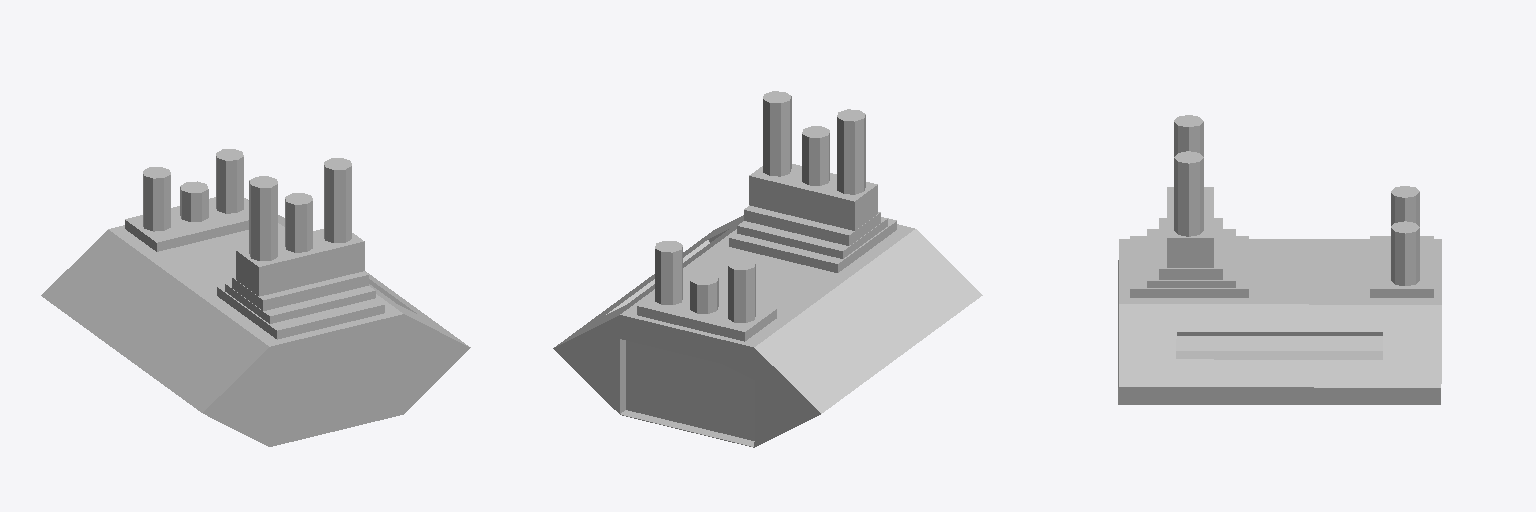
File: Stage 1 of Ship Hanger OBJ.obj
The picture shows the model from 3 angles: view 1: azimuth 30°, elevation 25°; view 2: azimuth 150°, elevation 25°; view 3: azimuth 270°, elevation 25°; orthographic projection.
Parts seen in each view (by area): view 1: pCylinder4, pasted__pasted__pasted__pCube4 pasted__pasted__group5 pasted__gr, pasted__pasted__pCylinder5 pasted__group8 group9, pasted__pCylinder5 group8, pasted__pCube4 group4, pCube4, pasted__pasted__pCube4 pasted__group5 group6, pasted__pCube4 group5, pasted__pCylinder5 group10, pCylinder5; view 2: pCylinder4, pasted__pasted__pasted__pCube4 pasted__pasted__group5 pasted__gr, pasted__pasted__pCylinder5 pasted__group8 group9, pasted__pCylinder5 group8, pasted__pCube4 group4, pCube4, pasted__pasted__pCube4 pasted__group5 group6, pasted__pCube4 group5, pasted__pCylinder5 group10, pCylinder5; view 3: pCylinder4, pasted__pasted__pCylinder5 pasted__group8 group9, pasted__pCylinder5 group8, pCube4, pasted__pCube4 group4, pasted__pasted__pasted__pCube4 pasted__pasted__group5 pasted__gr, pasted__pCube4 group5, pasted__pasted__pCube4 pasted__group5 group6.
Boxes of the visible parts, x1,y1,x2,y2 form: pCylinder4: [41, 198, 470, 446]; pasted__pasted__pasted__pCube4 pasted__pasted__group5 pasted__gr: [236, 229, 364, 296]; pasted__pasted__pCylinder5 pasted__group8 group9: [249, 158, 351, 260]; pasted__pCylinder5 group8: [143, 149, 243, 231]; pasted__pCube4 group4: [125, 197, 248, 251]; pCube4: [217, 285, 384, 339]; pasted__pasted__pCube4 pasted__group5 group6: [232, 271, 368, 310]; pasted__pCube4 group5: [225, 282, 375, 323]; pasted__pCylinder5 group10: [285, 193, 312, 252]; pCylinder5: [180, 181, 208, 221]; pCylinder4: [553, 215, 982, 447]; pasted__pasted__pasted__pCube4 pasted__pasted__group5 pasted__gr: [749, 164, 877, 230]; pasted__pasted__pCylinder5 pasted__group8 group9: [763, 91, 865, 194]; pasted__pCylinder5 group8: [655, 241, 755, 322]; pasted__pCube4 group4: [637, 286, 776, 341]; pCube4: [729, 217, 896, 272]; pasted__pasted__pCube4 pasted__group5 group6: [744, 205, 880, 245]; pasted__pCube4 group5: [737, 217, 887, 258]; pasted__pCylinder5 group10: [802, 126, 829, 185]; pCylinder5: [690, 273, 718, 313]; pCylinder4: [1118, 239, 1441, 404]; pasted__pasted__pCylinder5 pasted__group8 group9: [1174, 115, 1203, 236]; pasted__pCylinder5 group8: [1391, 186, 1419, 285]; pCube4: [1130, 236, 1248, 297]; pasted__pCube4 group4: [1370, 236, 1433, 297]; pasted__pasted__pasted__pCube4 pasted__pasted__group5 pasted__gr: [1167, 187, 1213, 267]; pasted__pCube4 group5: [1147, 229, 1235, 287]; pasted__pasted__pCube4 pasted__group5 group6: [1159, 218, 1222, 279].
Bounding box in the file's own units: 17.6 × 14.58 × 18.34.